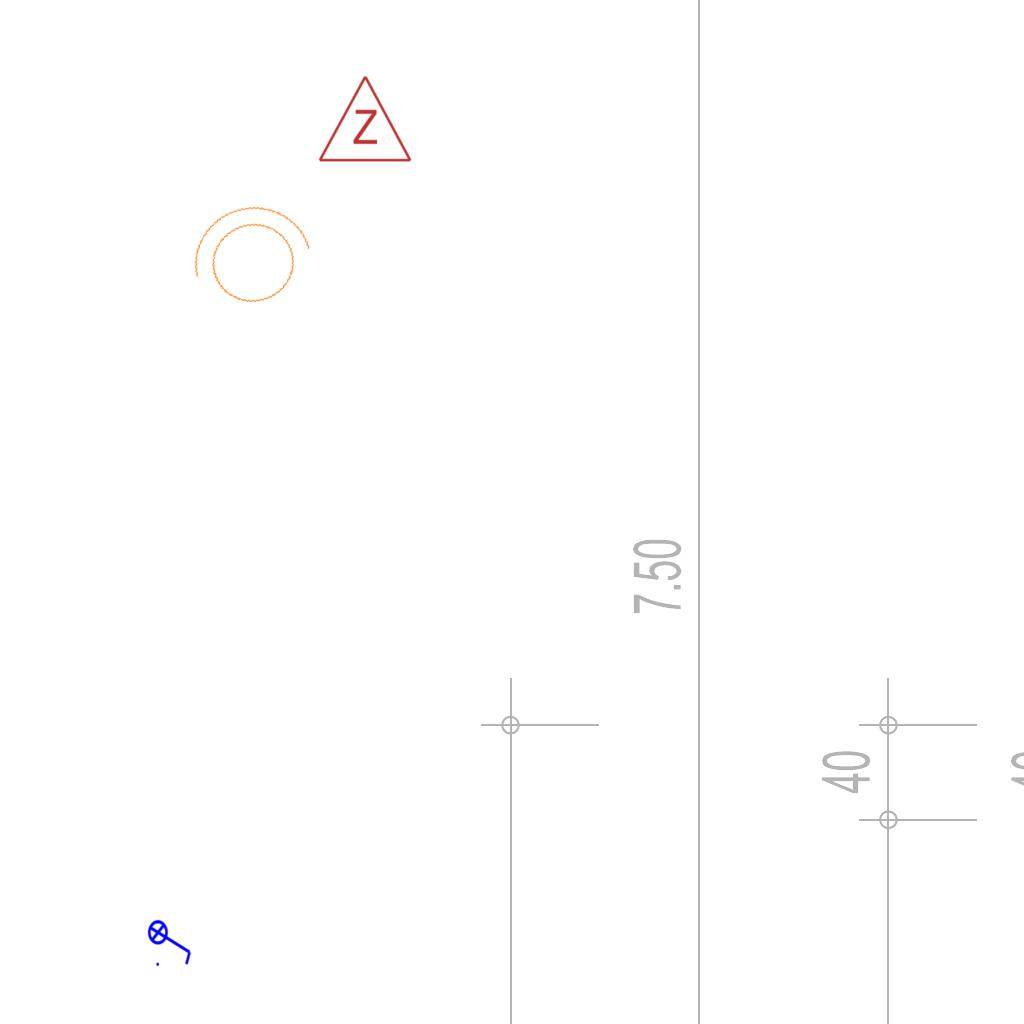Ausschalter_beleuchtet: (147, 913, 195, 969)
Scheinwerfer_fuer_Alarmbeleuchtung: (171, 188, 327, 330)
Zimmersignalleuchte: (315, 69, 413, 169)
